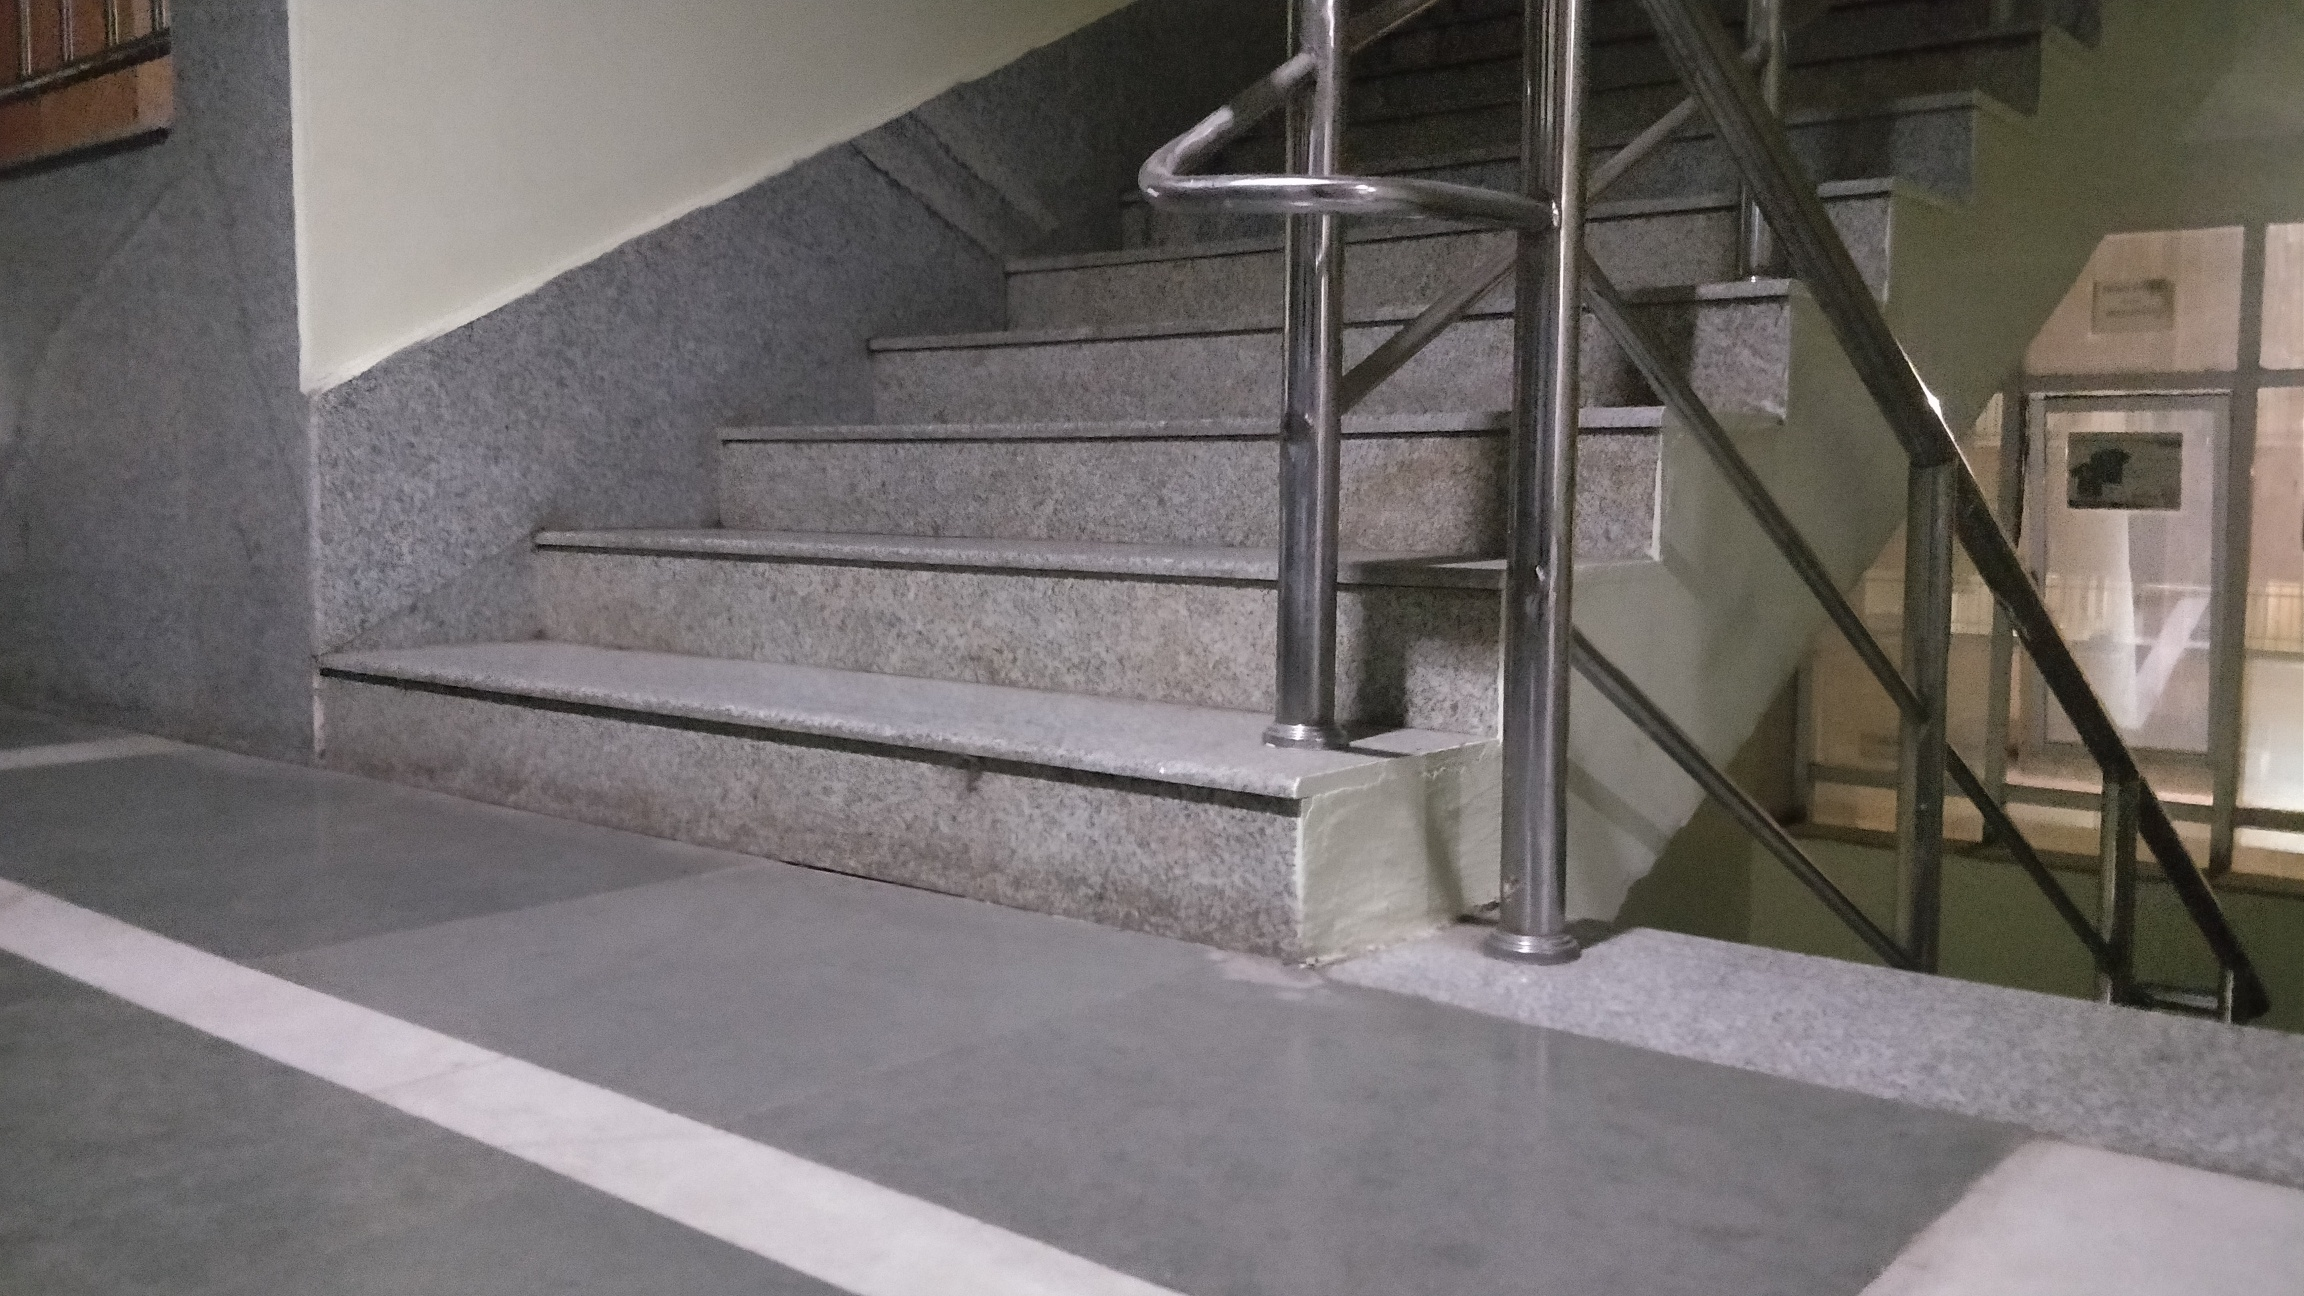stairs_up: (310, 6, 1829, 883)
